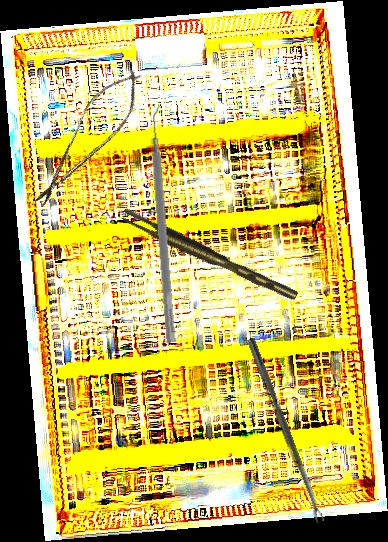Micro Scissor: (22, 58, 155, 219)
Spatula Surgical: (145, 105, 186, 343)
Surgical Spoon: (245, 337, 325, 524)
Tissue Forceps: (119, 202, 299, 310)
